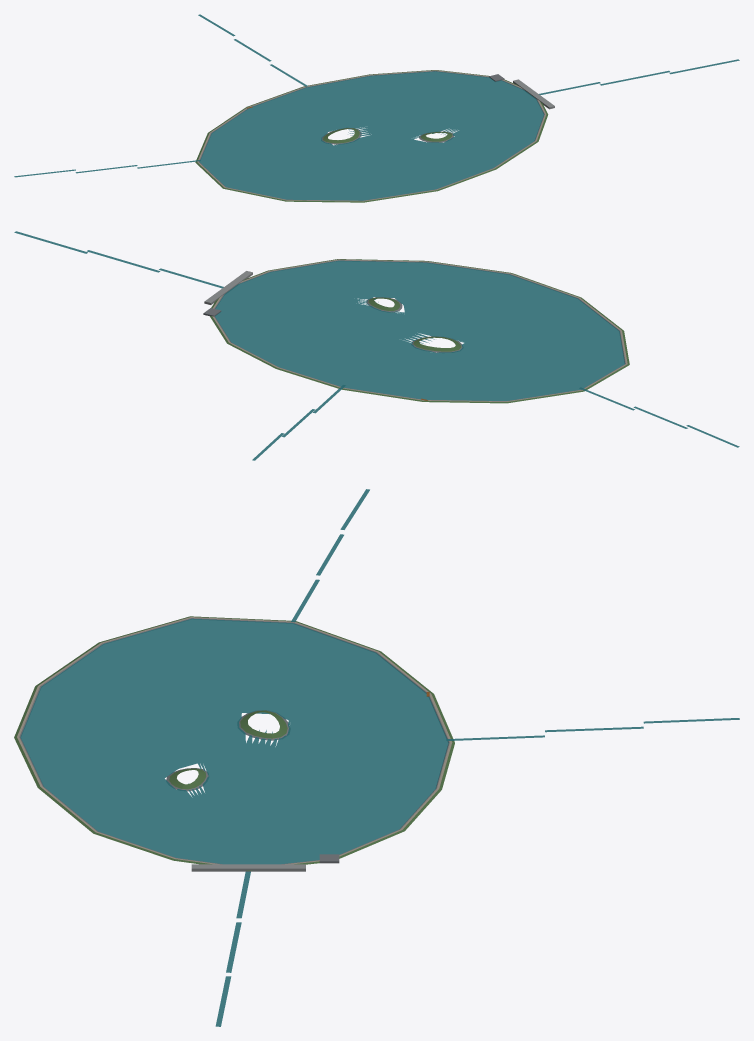
File: water_ho_da_quy_xuan_tho.glb
3 renders of one model, top to bottom at view 1: azimuth 30°, elevation 25°; view 2: azimuth 150°, elevation 25°; view 3: azimuth 270°, elevation 25°, orthographic. The views are drawn at different scales.
Visible parts, largest first — view 1: water_surface_water_ho_da_quy_xuan_tho, shoreline_terrain_transition_verge_water_ho_da_quy_xuan_tho, lakeside_promenade_walkway_water_ho_da_quy_xuan_tho, embankment_stone_coping_water_ho_da_quy_xuan_tho, headwater_terraces_stream_da_quy_east_spillway_to_hang_cop, headwater_terraces_stream_trai_mat_west_sakura_valley_inflow; view 2: water_surface_water_ho_da_quy_xuan_tho, shoreline_terrain_transition_verge_water_ho_da_quy_xuan_tho, lakeside_promenade_walkway_water_ho_da_quy_xuan_tho, embankment_stone_coping_water_ho_da_quy_xuan_tho, headwater_terraces_stream_da_quy_east_spillway_to_hang_cop, embankment_stone_slope_water_ho_da_quy_xuan_tho, headwater_terraces_stream_trai_mat_west_sakura_valley_inflow; view 3: water_surface_water_ho_da_quy_xuan_tho, shoreline_terrain_transition_verge_water_ho_da_quy_xuan_tho, lakeside_promenade_walkway_water_ho_da_quy_xuan_tho, embankment_stone_coping_water_ho_da_quy_xuan_tho, da_quy_main_irrigation_earth_dam_crest, headwater_terraces_stream_da_quy_east_spillway_to_hang_cop.
Part boxes in pixels (bbox=[...]): water_surface_water_ho_da_quy_xuan_tho: bbox=[199, 71, 543, 200]; shoreline_terrain_transition_verge_water_ho_da_quy_xuan_tho: bbox=[195, 70, 548, 202]; lakeside_promenade_walkway_water_ho_da_quy_xuan_tho: bbox=[197, 70, 546, 201]; embankment_stone_coping_water_ho_da_quy_xuan_tho: bbox=[199, 71, 544, 200]; headwater_terraces_stream_da_quy_east_spillway_to_hang_cop: bbox=[539, 59, 739, 94]; headwater_terraces_stream_trai_mat_west_sakura_valley_inflow: bbox=[14, 160, 200, 177]; water_surface_water_ho_da_quy_xuan_tho: bbox=[215, 260, 624, 400]; shoreline_terrain_transition_verge_water_ho_da_quy_xuan_tho: bbox=[210, 259, 629, 403]; lakeside_promenade_walkway_water_ho_da_quy_xuan_tho: bbox=[212, 259, 627, 401]; embankment_stone_coping_water_ho_da_quy_xuan_tho: bbox=[214, 260, 625, 401]; headwater_terraces_stream_da_quy_east_spillway_to_hang_cop: bbox=[14, 231, 223, 288]; embankment_stone_slope_water_ho_da_quy_xuan_tho: bbox=[215, 260, 625, 363]; headwater_terraces_stream_trai_mat_west_sakura_valley_inflow: bbox=[579, 387, 739, 447]; water_surface_water_ho_da_quy_xuan_tho: bbox=[20, 618, 448, 864]; shoreline_terrain_transition_verge_water_ho_da_quy_xuan_tho: bbox=[14, 616, 454, 870]; lakeside_promenade_walkway_water_ho_da_quy_xuan_tho: bbox=[17, 617, 452, 864]; embankment_stone_coping_water_ho_da_quy_xuan_tho: bbox=[19, 618, 449, 864]; da_quy_main_irrigation_earth_dam_crest: bbox=[191, 864, 305, 871]; headwater_terraces_stream_da_quy_east_spillway_to_hang_cop: bbox=[215, 871, 250, 1026].
Bounding box in the file's own units: 2357 × 48 × 1398.
